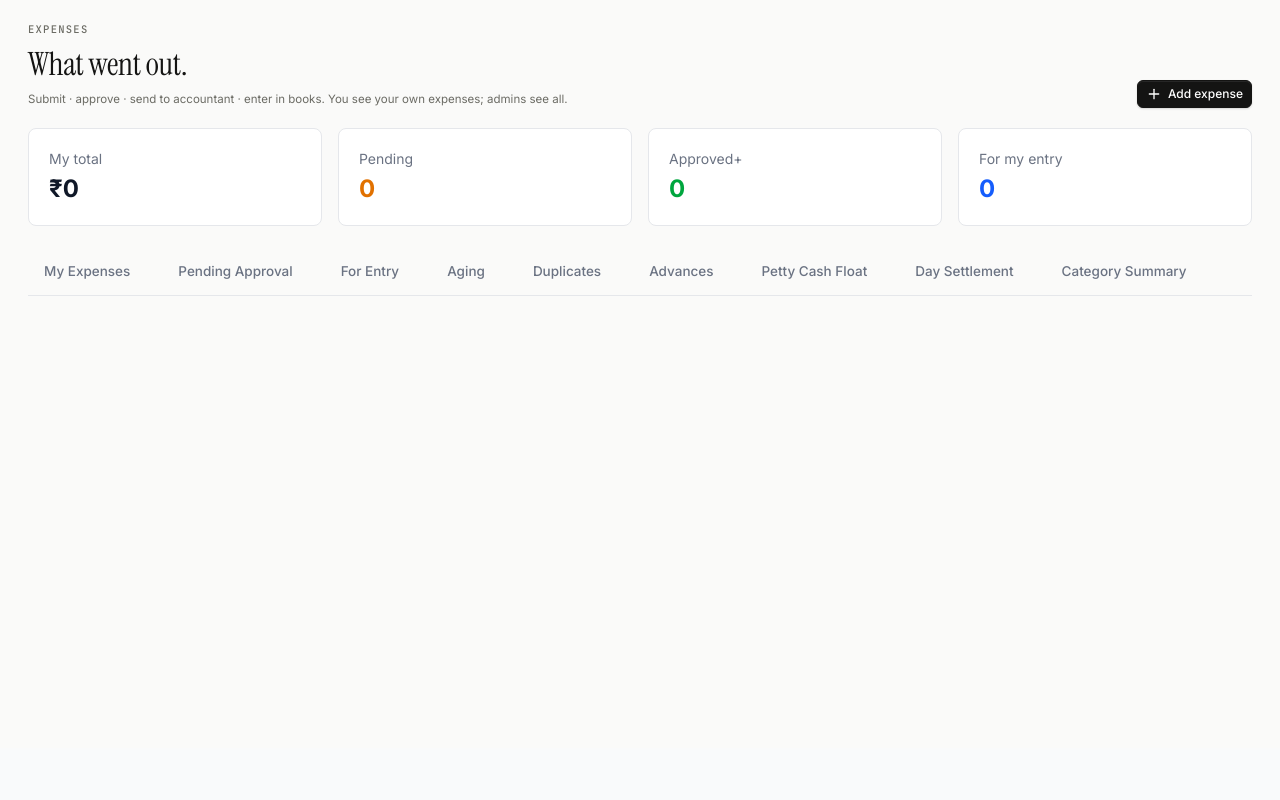
Test case: the next expense after a save at 2027-03-31T19:30:00Z is dated 2027-04-01
Click the button "Add expense" at [1194, 94], box [1137,80,1252,108]
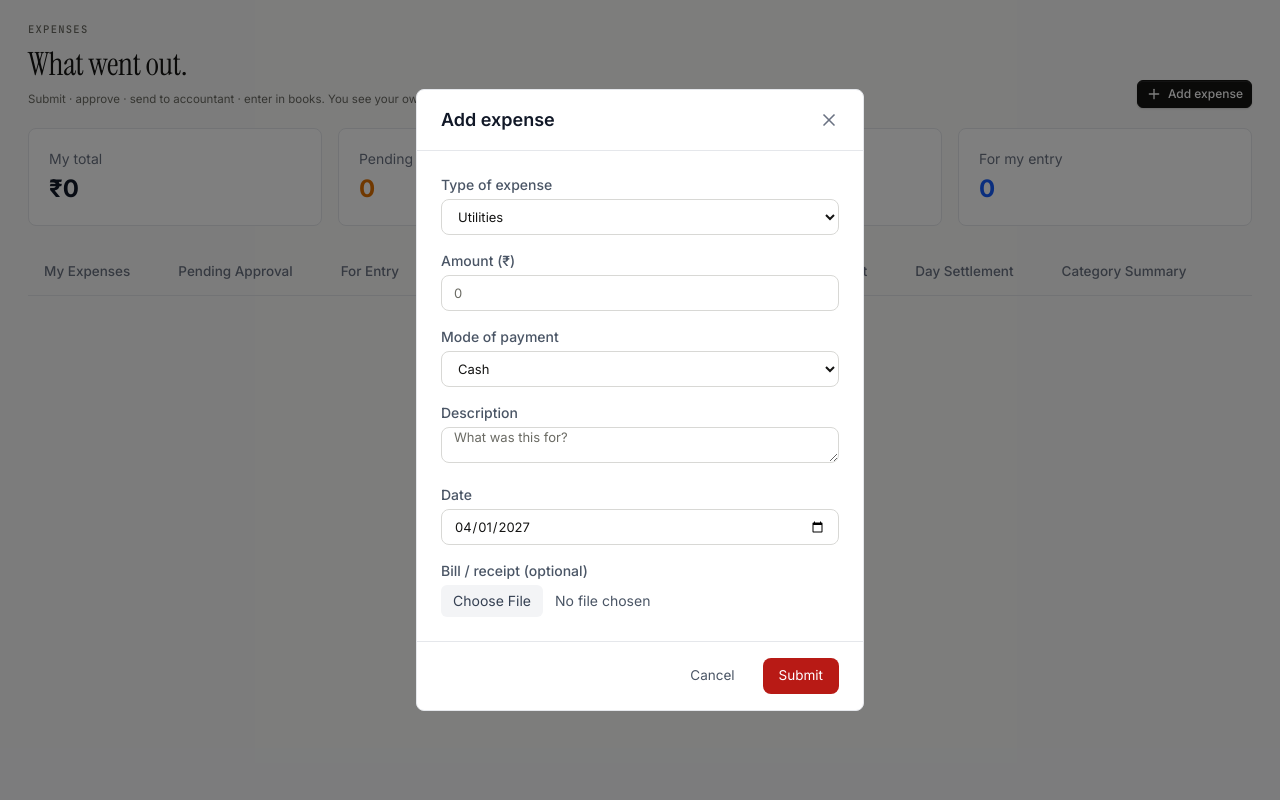
Type "100" into the number field titled "Amount" at [640, 293], box [441,275,839,311]
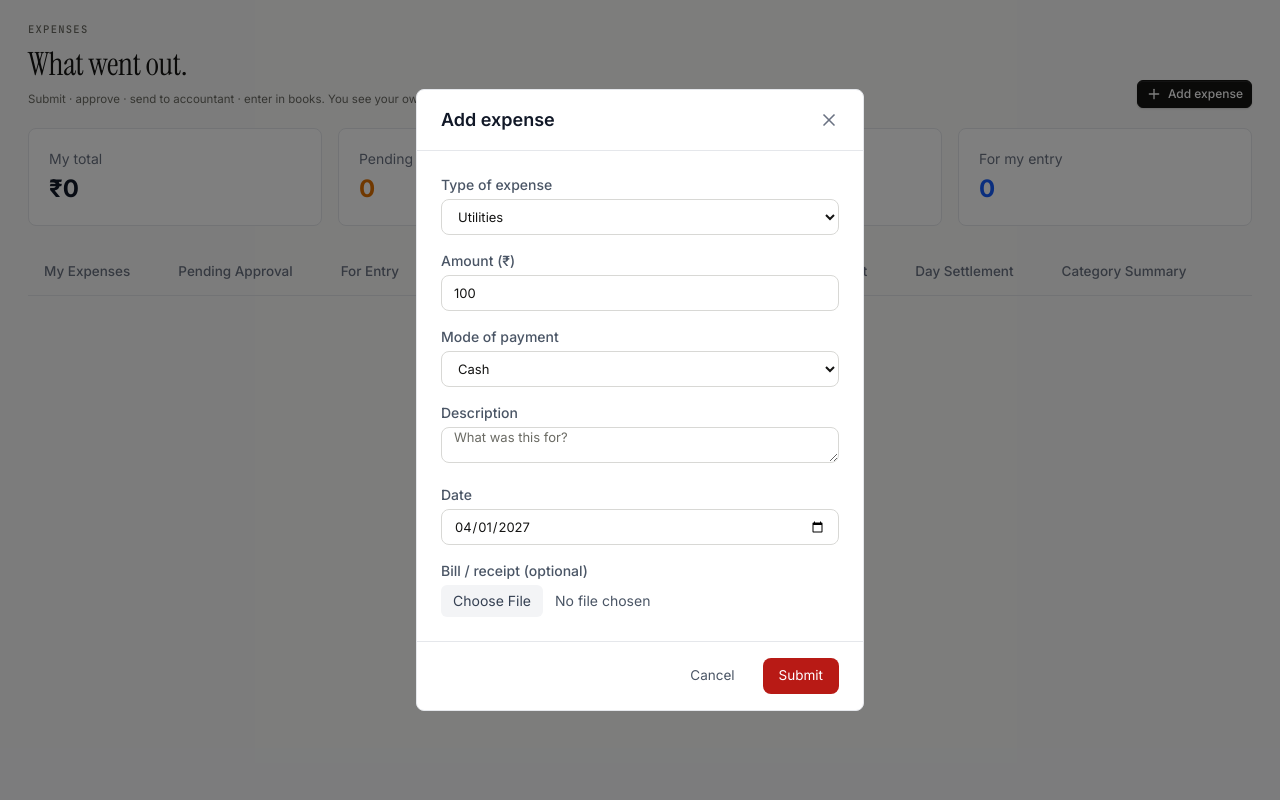
Type "Tea" into the text box titled "Description" at [640, 445], box [441,427,839,463]
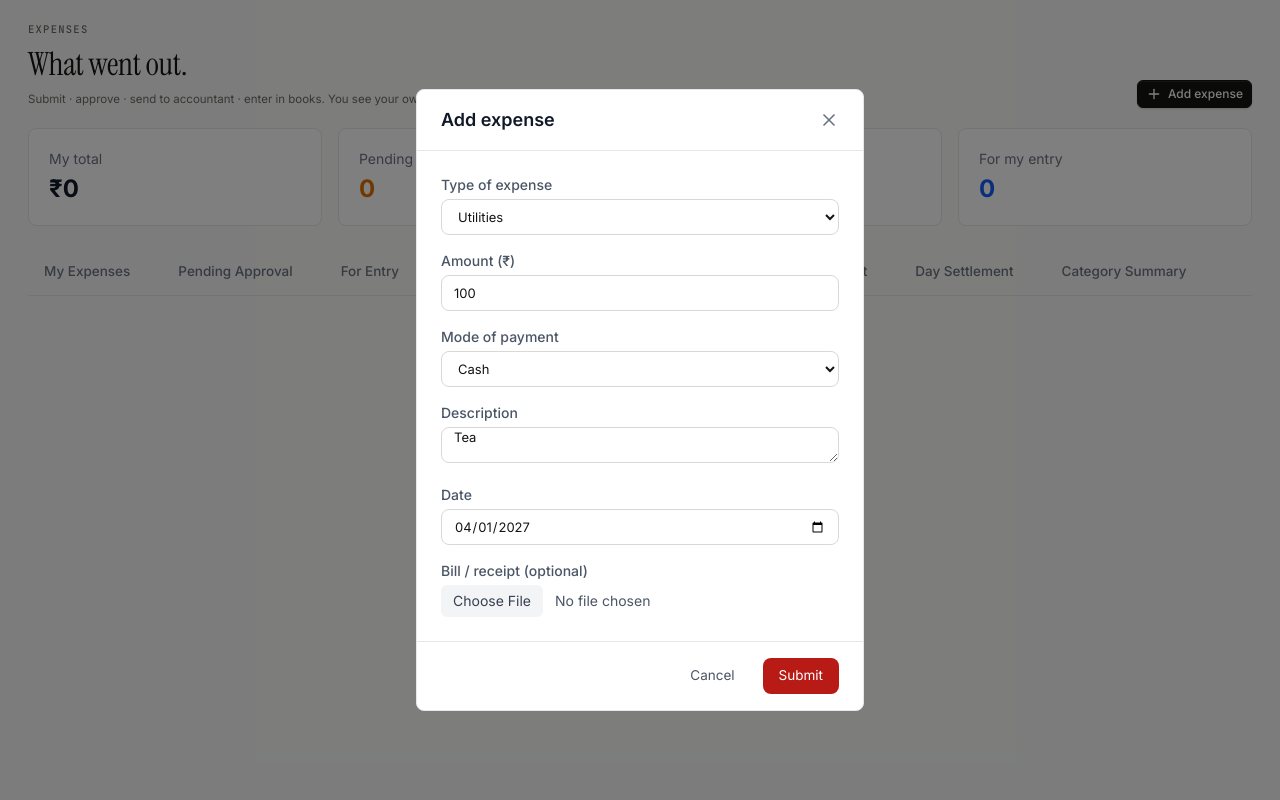
Type "2027-03-15" into the date field labelled "Date" at [640, 527], box [441,509,839,545]
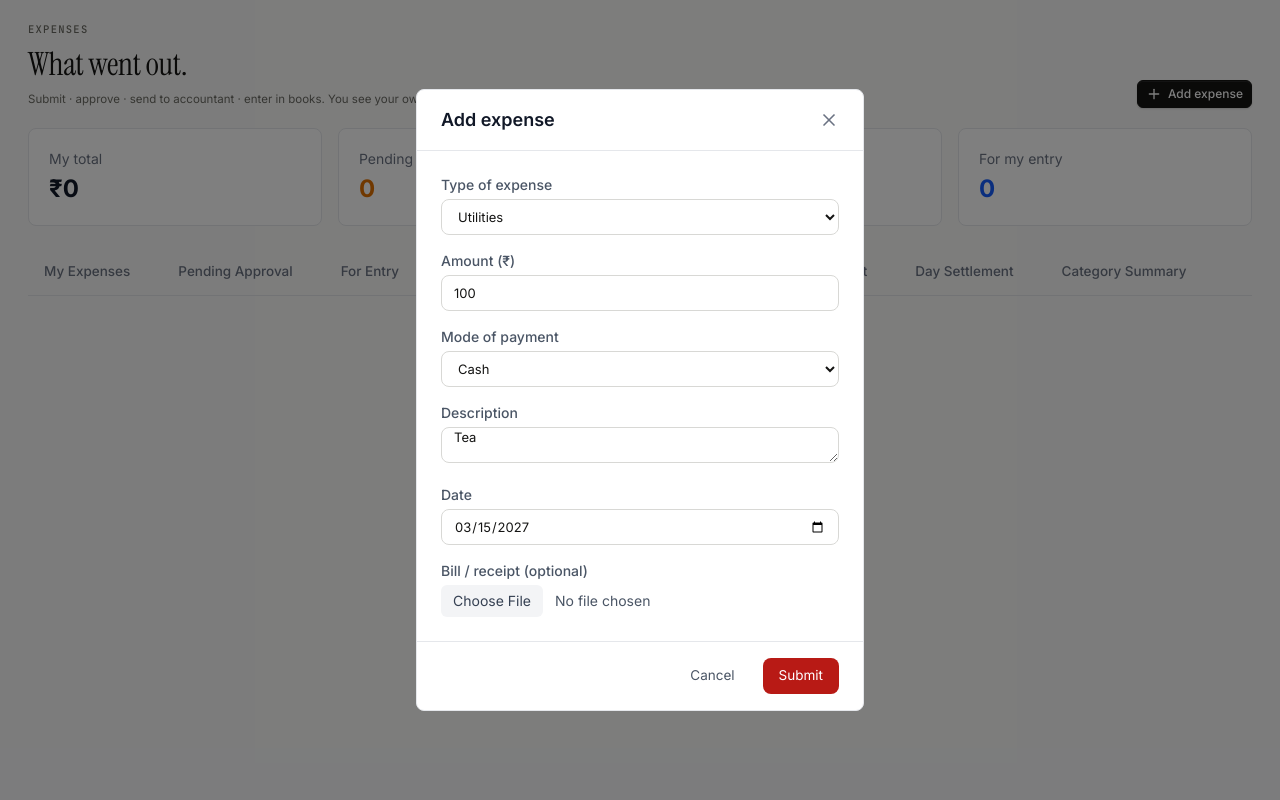
Click the button "Submit" at [801, 676], box [763,658,839,694]
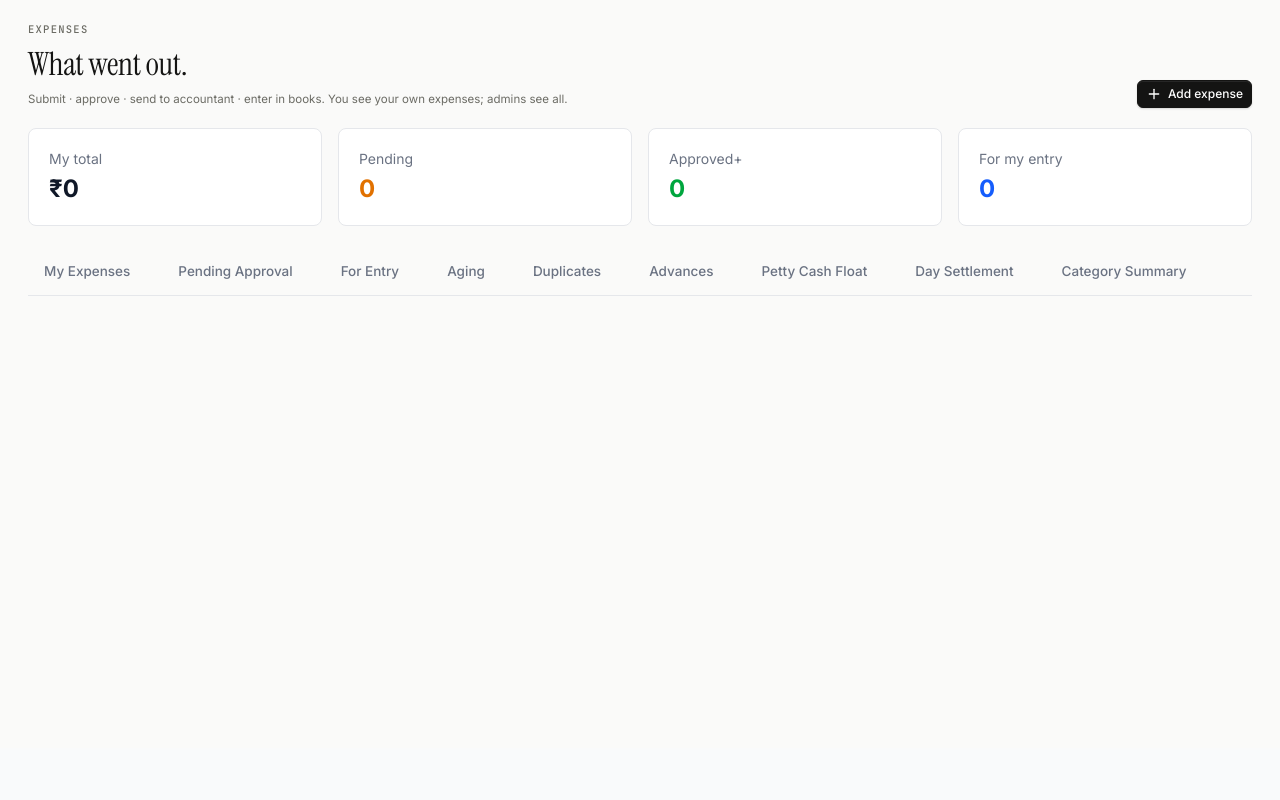
Click the button "Add expense" at [1194, 94], box [1137,80,1252,108]
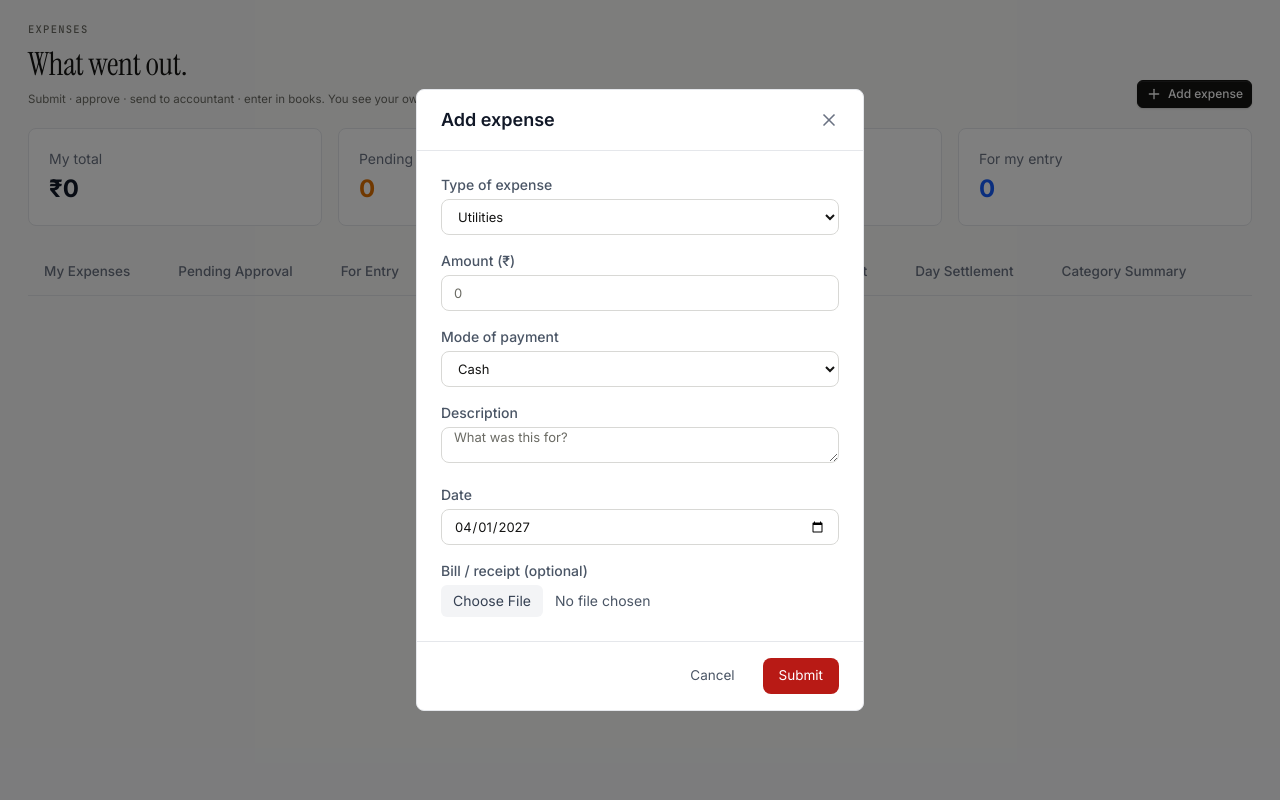
Expected: the date field labelled "Date" holds "2027-04-01", [441,509,839,545]
